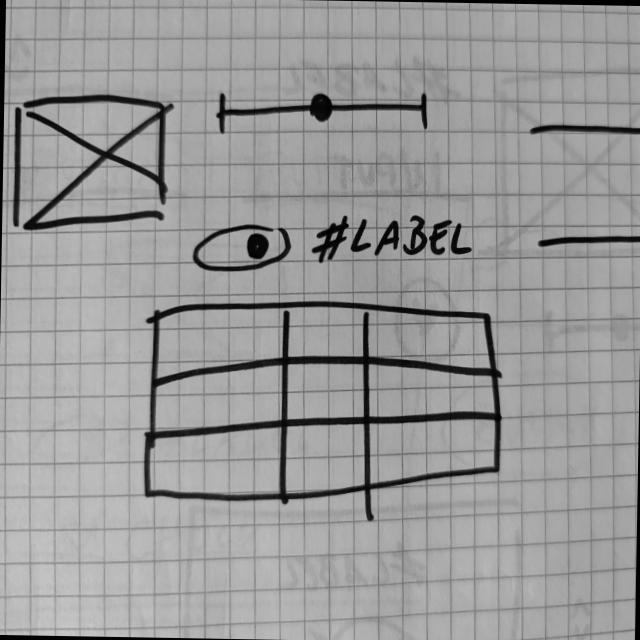image: (10, 89, 172, 237)
label: (309, 208, 480, 274)
select: (526, 87, 640, 143), (534, 198, 640, 256)
slider: (216, 89, 434, 145)
table: (143, 295, 507, 512)
toggle: (192, 220, 293, 278)
